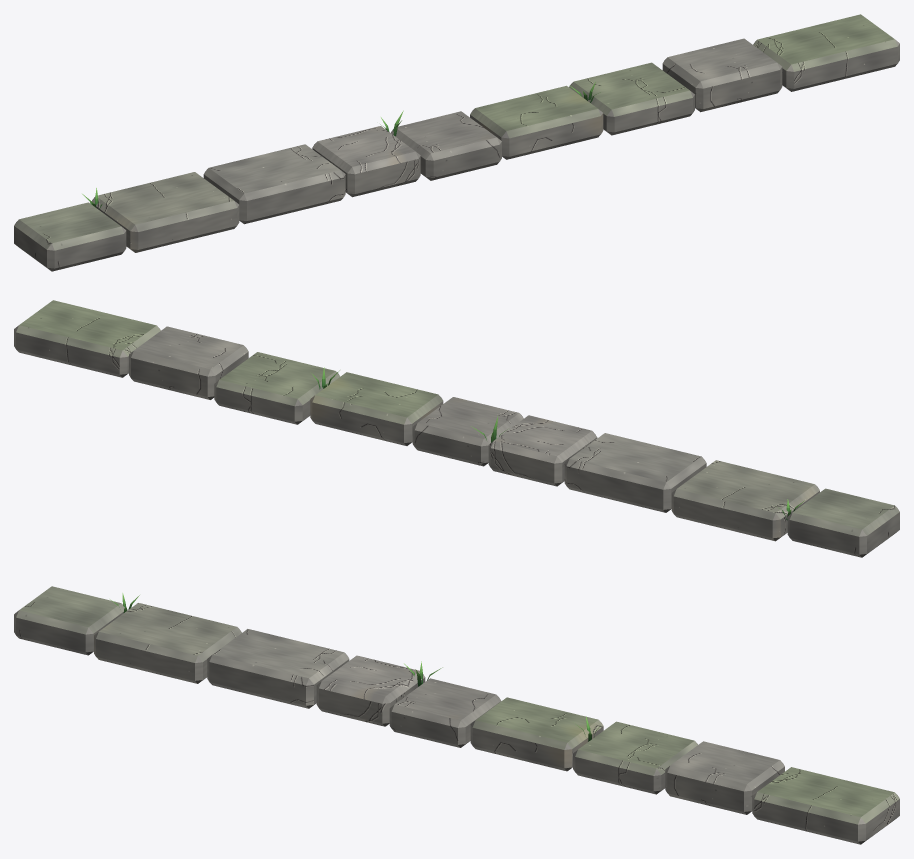
The model's file is pit_kerb.glb.
3 views of the same model, one above another, from view 1: azimuth 30°, elevation 25°; view 2: azimuth 150°, elevation 25°; view 3: azimuth 330°, elevation 25° (orthographic).
Parts seen in each view (by area): view 1: pit_kerb_blocks; view 2: pit_kerb_blocks; view 3: pit_kerb_blocks.
Boxes of the visible parts, x1,y1,x2,y2 form: pit_kerb_blocks: [14, 14, 899, 271]; pit_kerb_blocks: [14, 300, 899, 557]; pit_kerb_blocks: [14, 586, 899, 844].
Bounding box in the file's own units: 11.97 × 0.5925 × 1.1.
Materials: 2 (2 with a texture image).
